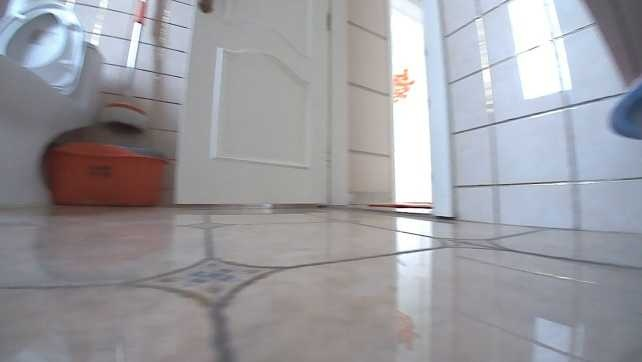door_anno: (175, 1, 362, 207)
toilet: (0, 0, 104, 211)
